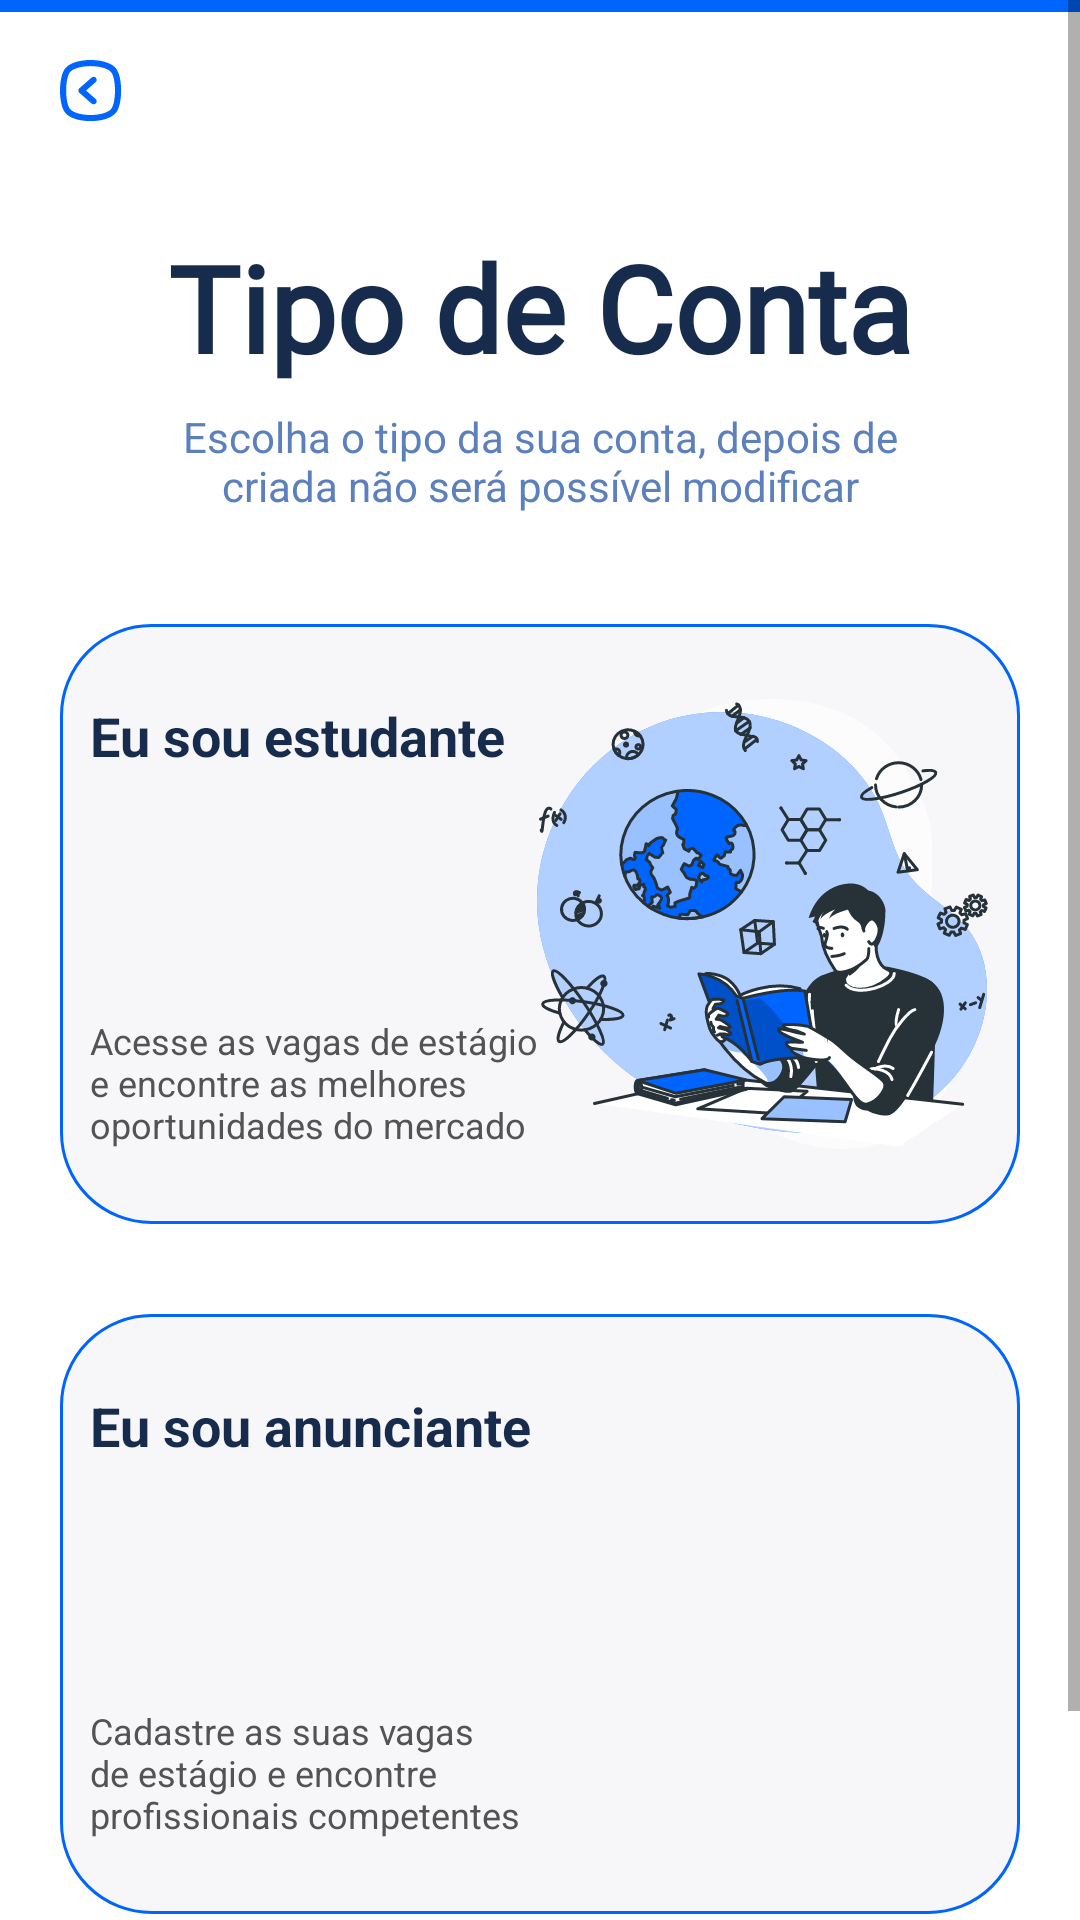

Screen size 1080x1920. Icon name, then its box in pixels as (x1, y1, x2, y2):
back: (60, 60, 122, 121)
